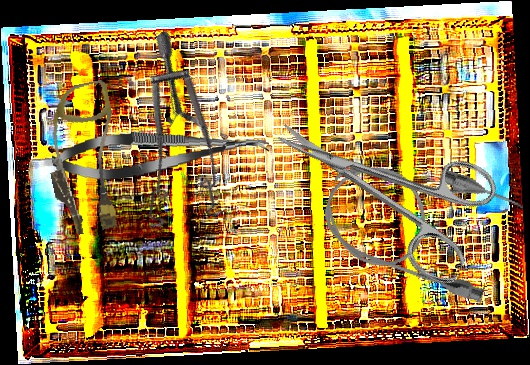Cannula: (312, 137, 527, 307), (33, 79, 136, 238)
Iris Scissors: (252, 73, 510, 291)
Micro Scissor: (50, 120, 271, 185)
Speculum: (62, 28, 272, 252)
